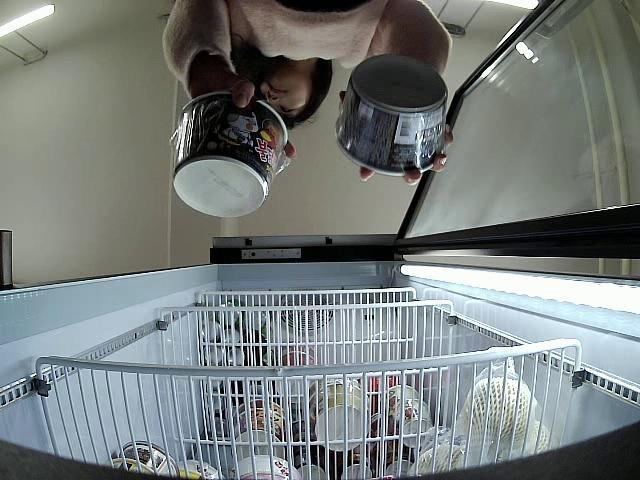07_buldak_L: (168, 92, 288, 214), (332, 54, 447, 170)
